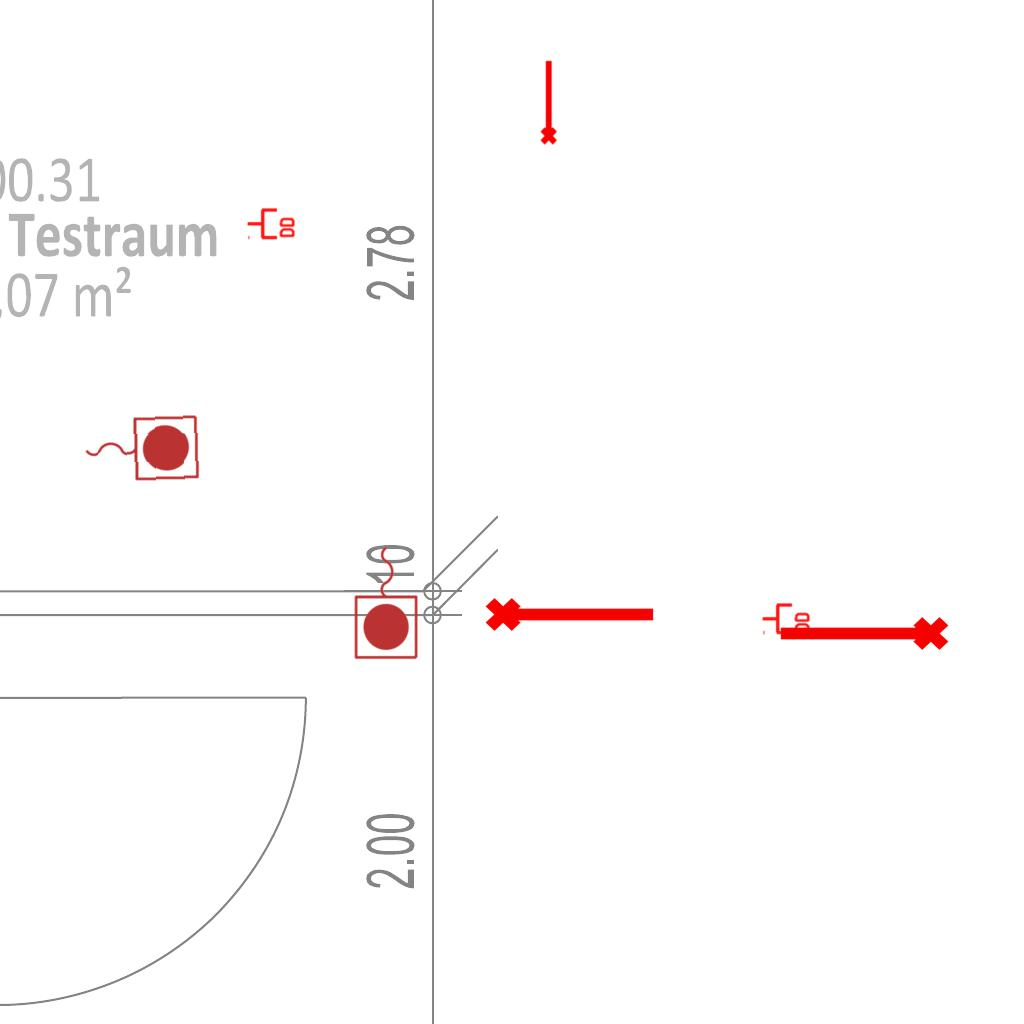ASR_Ansaugoeffnung: (483, 589, 659, 635), (775, 613, 951, 659), (536, 58, 559, 146)
Datenanschluss_zweifach: (246, 206, 297, 240), (761, 601, 812, 635)
Zugtaster: (78, 409, 204, 487), (351, 541, 423, 663)
